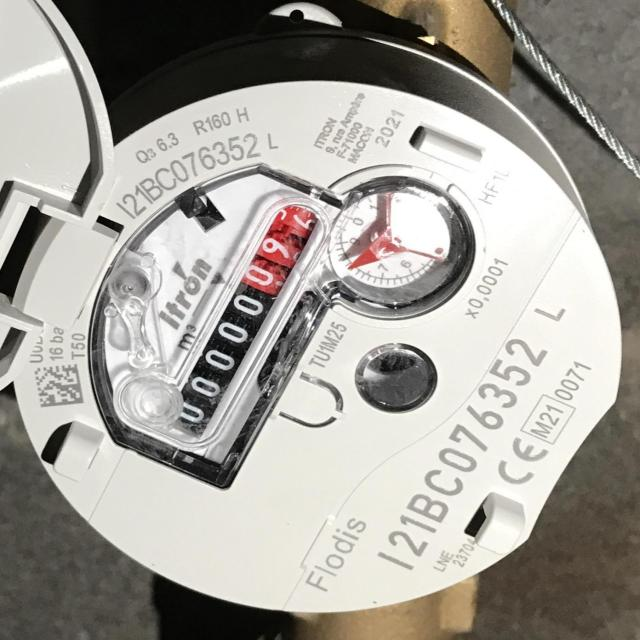gaz_meter: (11, 77, 627, 612)
indication: (150, 197, 327, 444)
